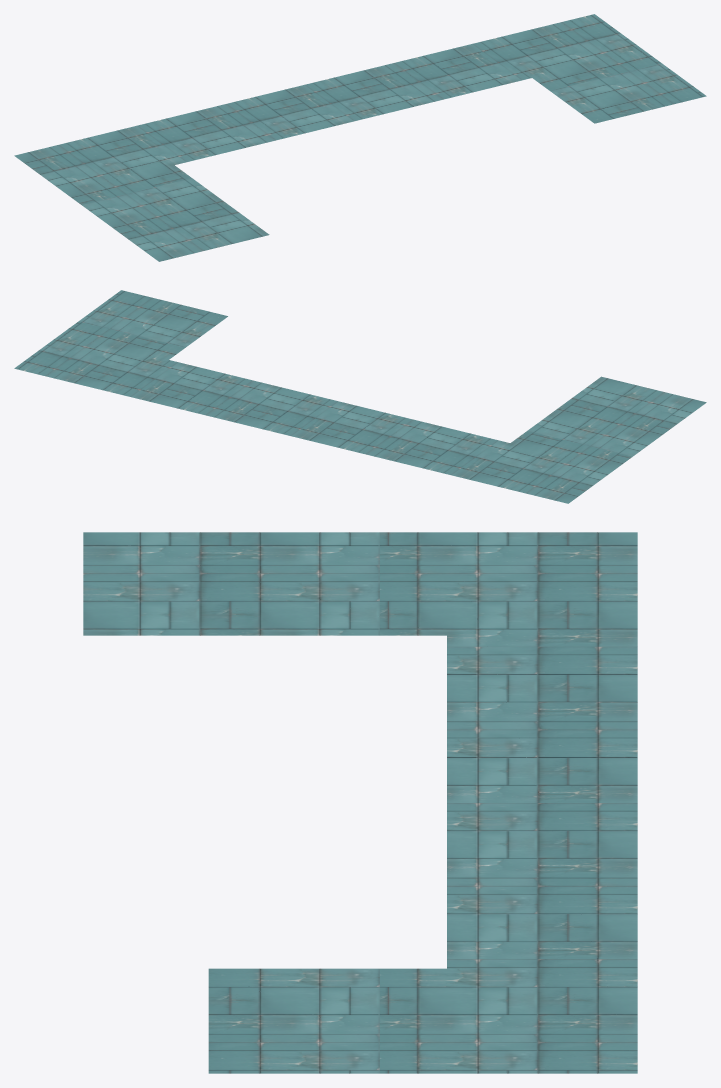
Rendered from brutalist-building-2-cbake.floor-3.hall.glb.
3 views of the same model, one above another, from view 1: azimuth 30°, elevation 25°; view 2: azimuth 150°, elevation 25°; view 3: azimuth 270°, elevation 25° (orthographic). The views are drawn at different scales.
Visible parts, largest first — view 1: floor; view 2: floor; view 3: floor.
Part boxes in pixels (bbox=[...]): floor: bbox=[14, 14, 706, 261]; floor: bbox=[14, 290, 706, 503]; floor: bbox=[83, 532, 637, 1073].
Bounding box in the file's own units: 29.53 × 0 × 12.79.
Materials: 1 (1 with a texture image).
